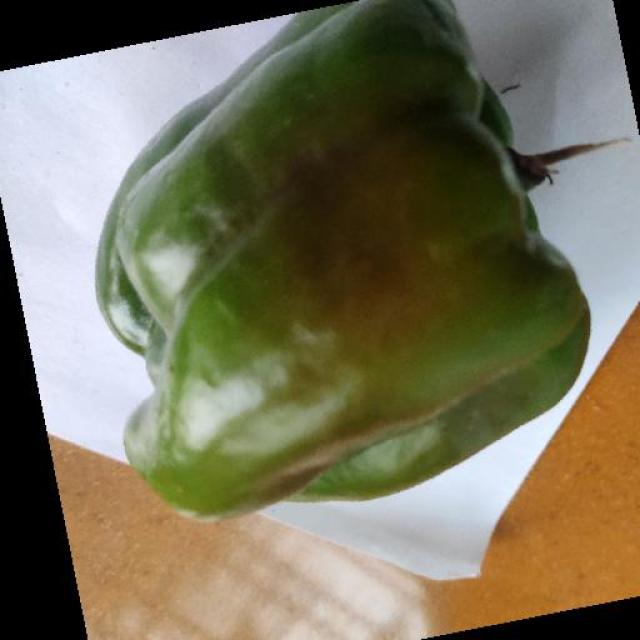Stale_Capsicum: (136, 61, 636, 524)
